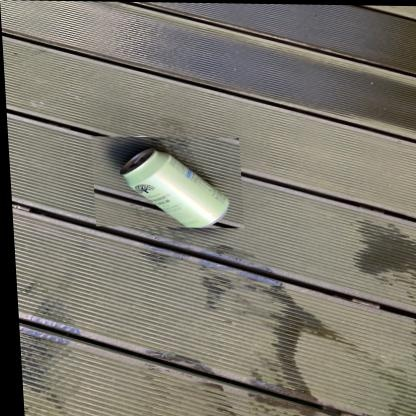trash: (120, 148, 228, 227)
